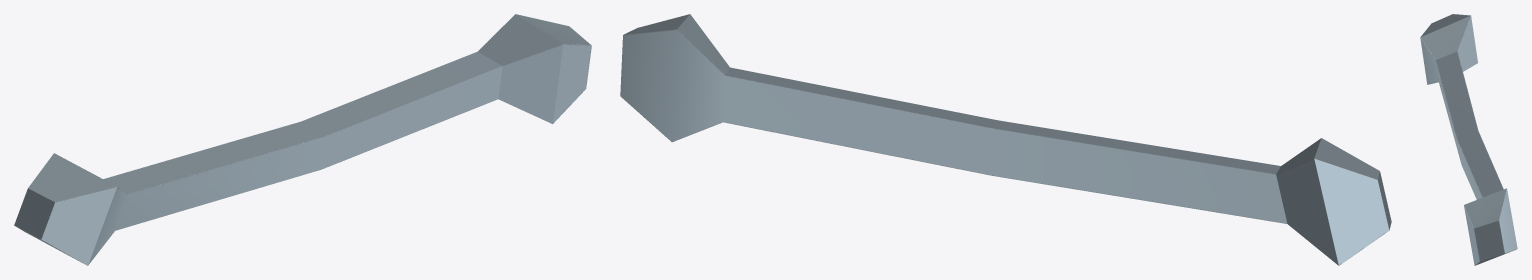
Rendered from Bone3.fbx.
3 renders of one model, left to right at view 1: azimuth 30°, elevation 25°; view 2: azimuth 150°, elevation 25°; view 3: azimuth 270°, elevation 25°, orthographic. The views are drawn at different scales.
Parts seen in each view (by area): view 1: Bone003; view 2: Bone003; view 3: Bone003.
Boxes of the visible parts, x1,y1,x2,y2 form: Bone003: (14, 14, 591, 265); Bone003: (620, 14, 1391, 265); Bone003: (1420, 14, 1517, 265).
Bounding box in the file's own units: 16.34 × 3.17 × 2.59.
